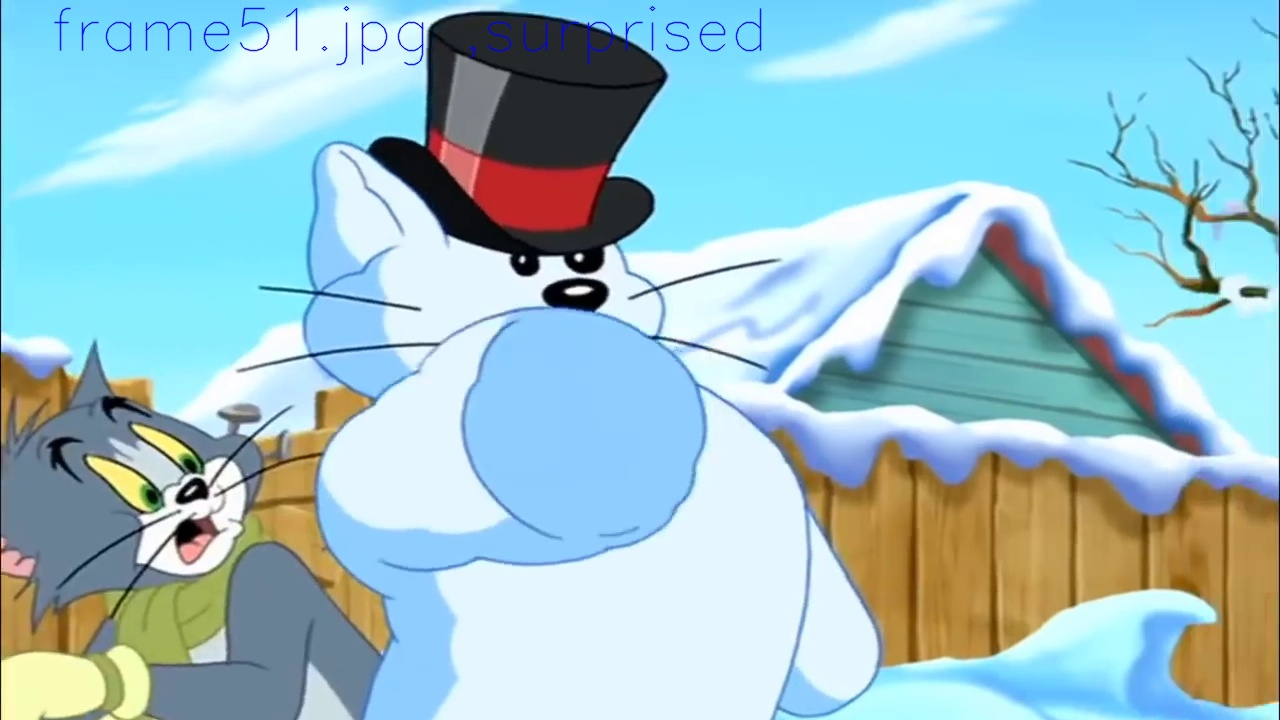surprised: (36, 396, 225, 571)
